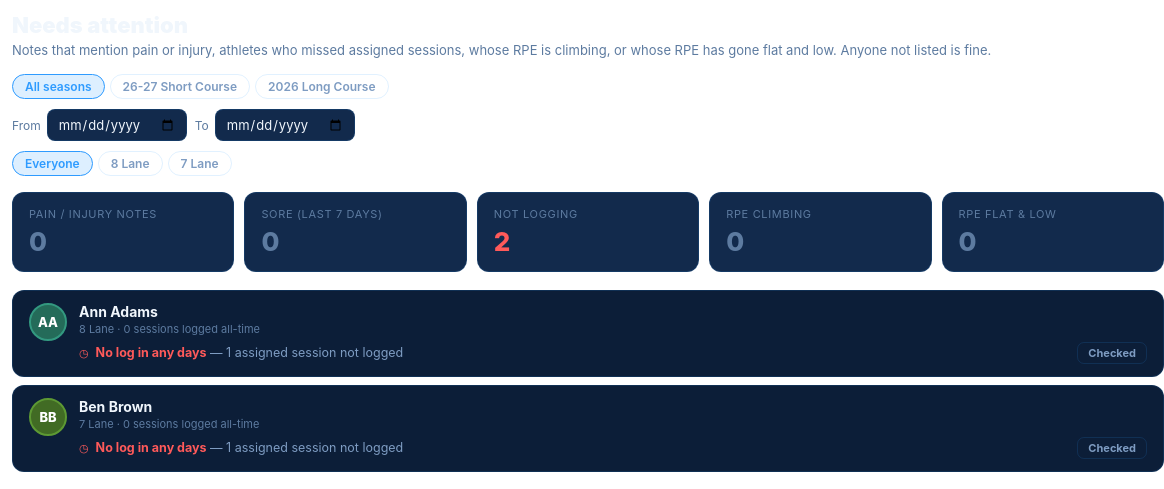
Scenario: season pills scope the flags to that season
The image size is (1164, 489).
Step 1. Click the button "26-27 Short Course" → (180, 86), box x1=110 y1=74 x2=250 y2=99
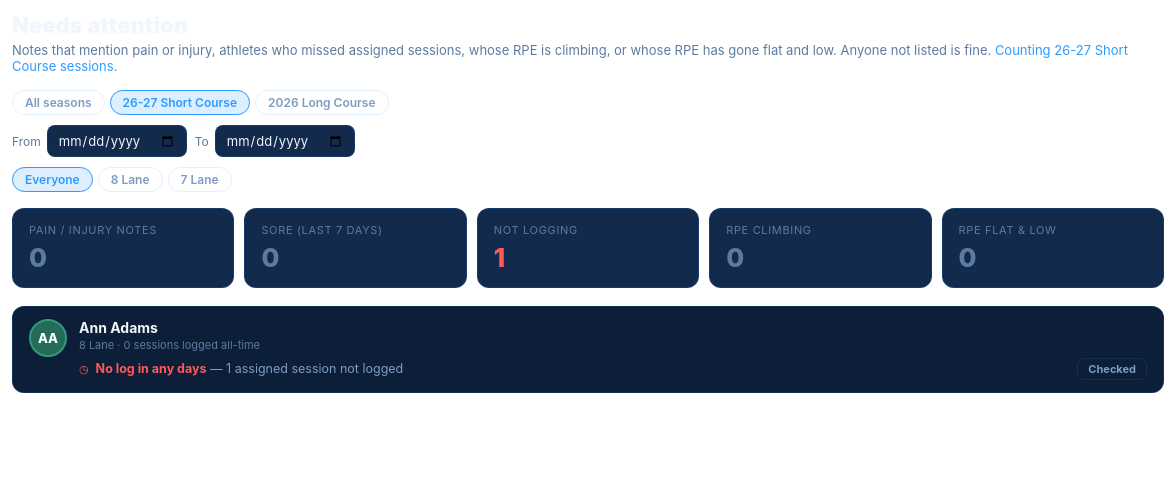
Expected: the text "Ann Adams" is shown, x1=79 y1=319 x2=158 y2=336
Now the text "Ben Brown" is gone
Now the text "Counting 26-27 Short Course sessions." is shown, box x1=12 y1=42 x2=1128 y2=74
